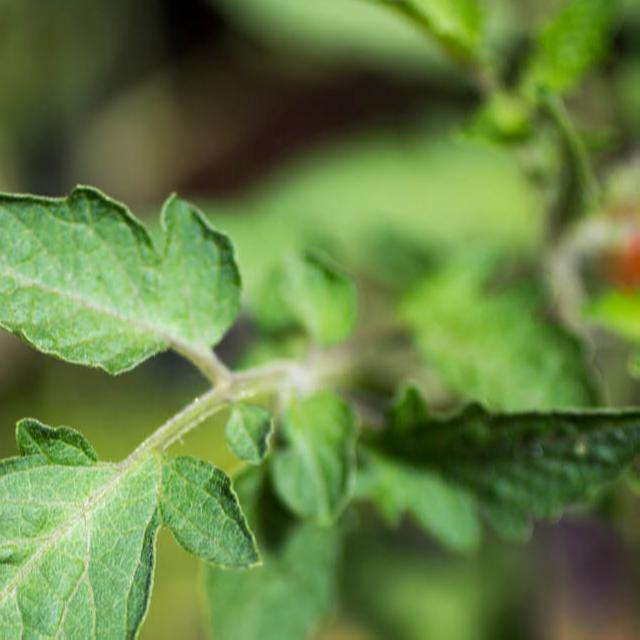Tomato leaf: (0, 165, 291, 378), (0, 424, 200, 640)
